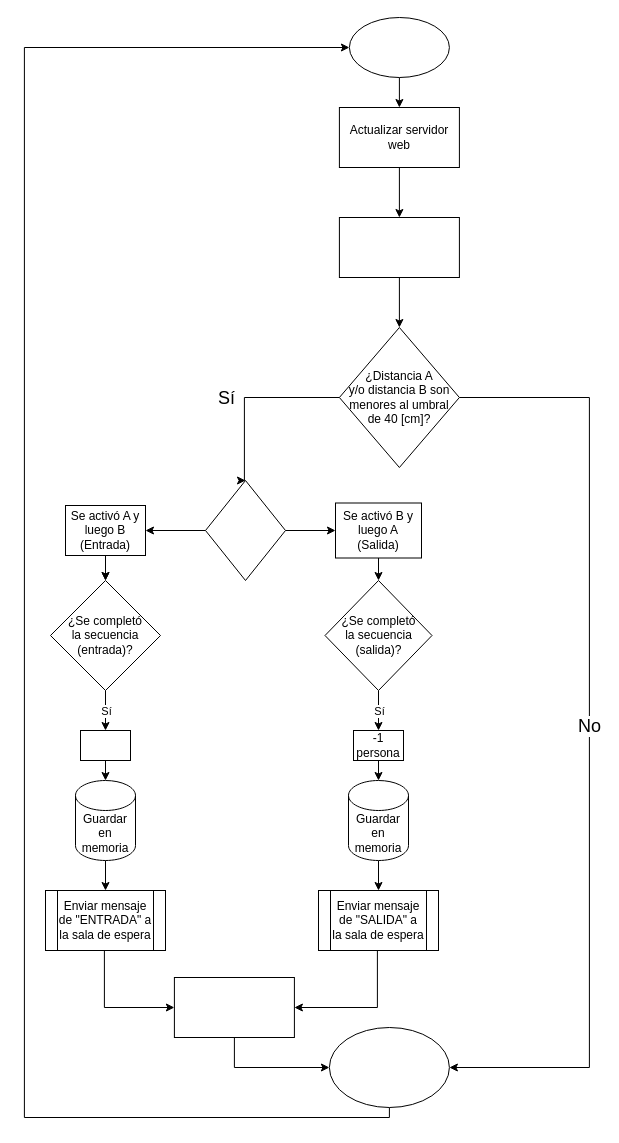
Some shapes in this 619 by 1143 pixel diagram are drawn without their labels. The shapes that lost their labels are listed below. From the top down, each one's centre as x and y in pixels, then its label:
point 398,47: Iniciar ciclo
point 398,247: Medir distancia del Sensor A y Sensor B
point 245,530: Es entrada o salida
point 105,745: +1 persona
point 233,1007: Pausa de 100 [ms] para evitar que el ruido ultrasónico sature el procesador
point 388,1067: Fin. Vuelta al inicio.
